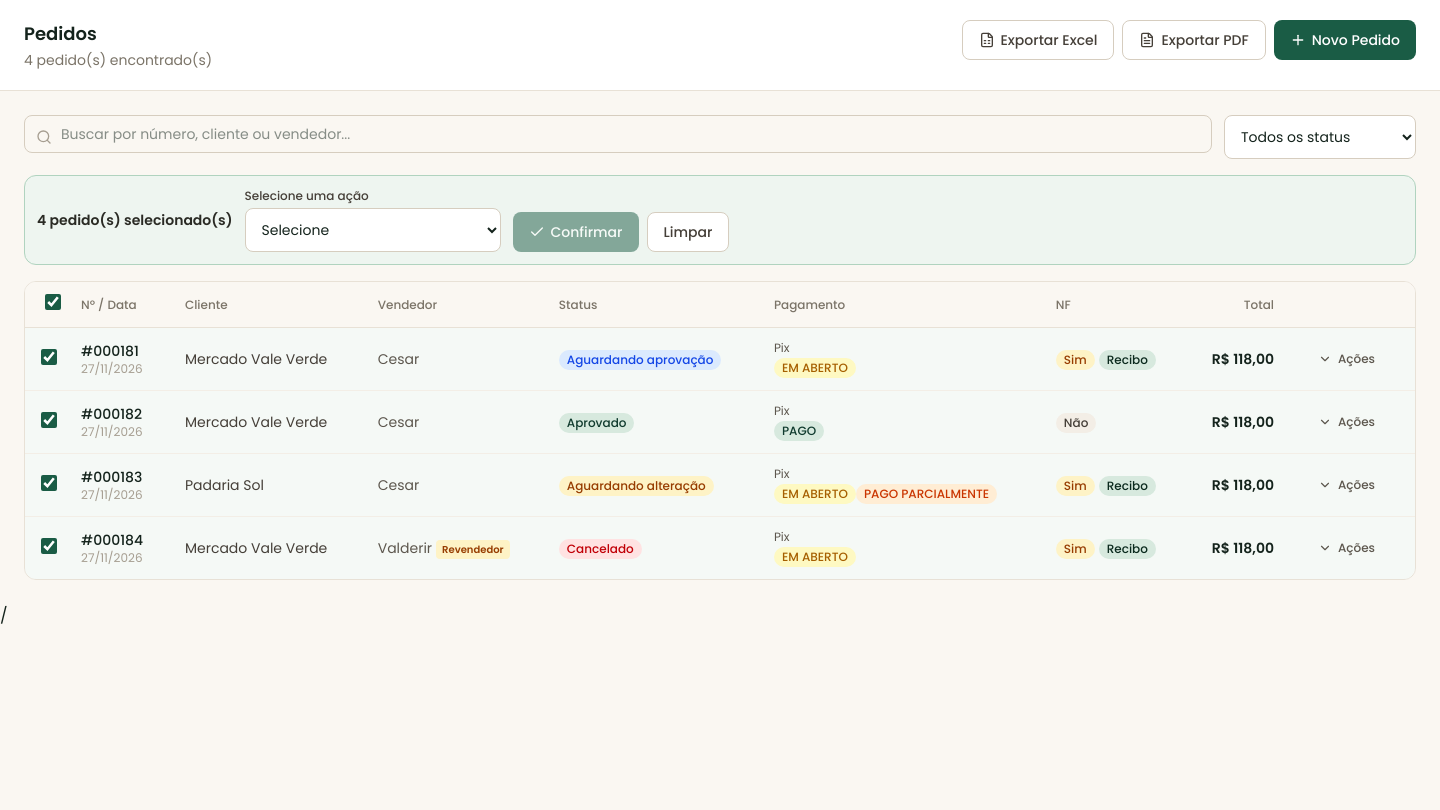
Test: ações em lote › marcar como pago: data, forma, ignorados e erros
Earlier steps of the test are not shown.
Later steps or results of the test are not shown.
Expected: the text "4 pedido(s) selecionado(s)" is shown, [37,210,232,230]
Click the checkbox named "Selecionar todos" at (53, 302), box [45,294,61,310]
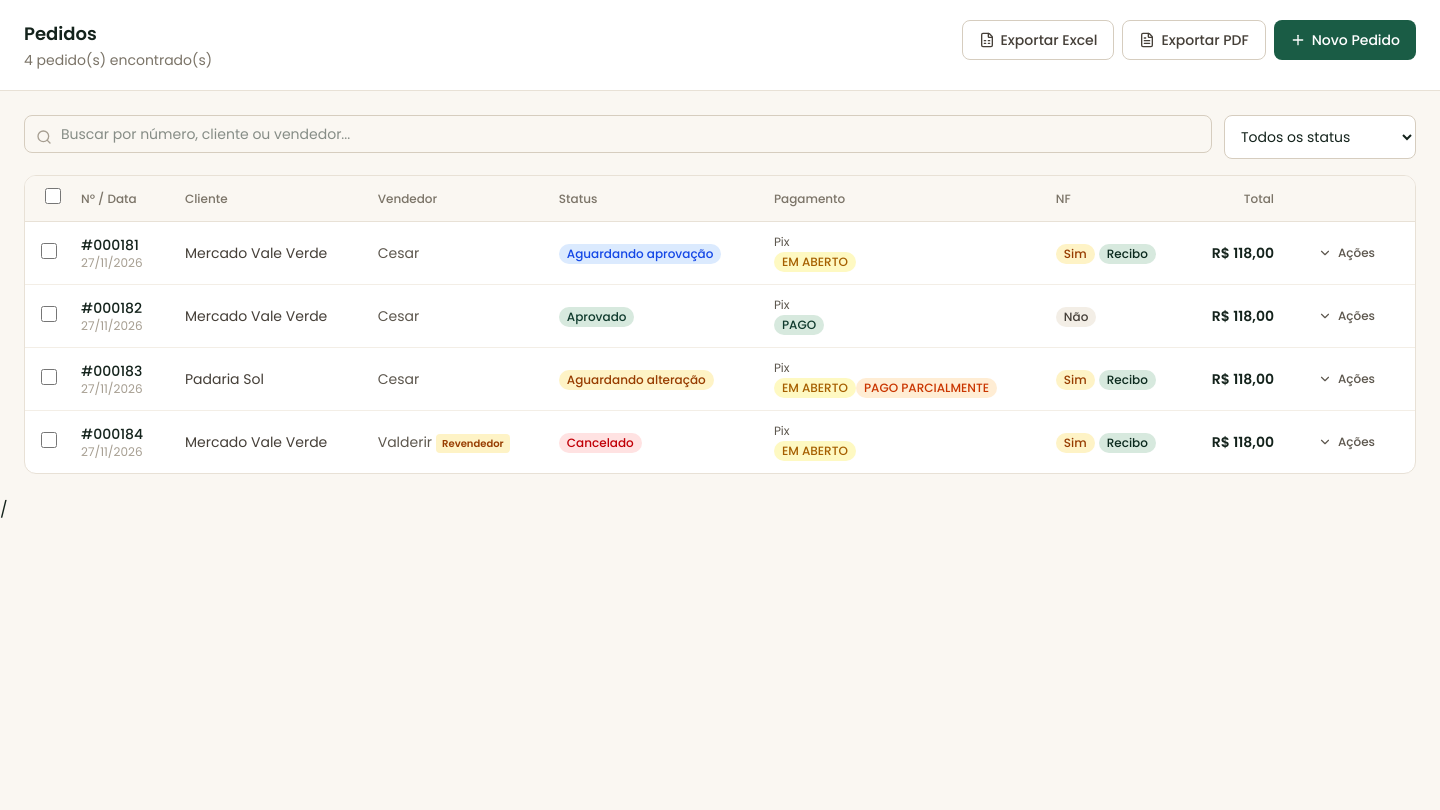
Result: the text "selecionado(s)" is gone
Click the checkbox named "Selecionar todos" at (53, 196), box [45,188,61,204]
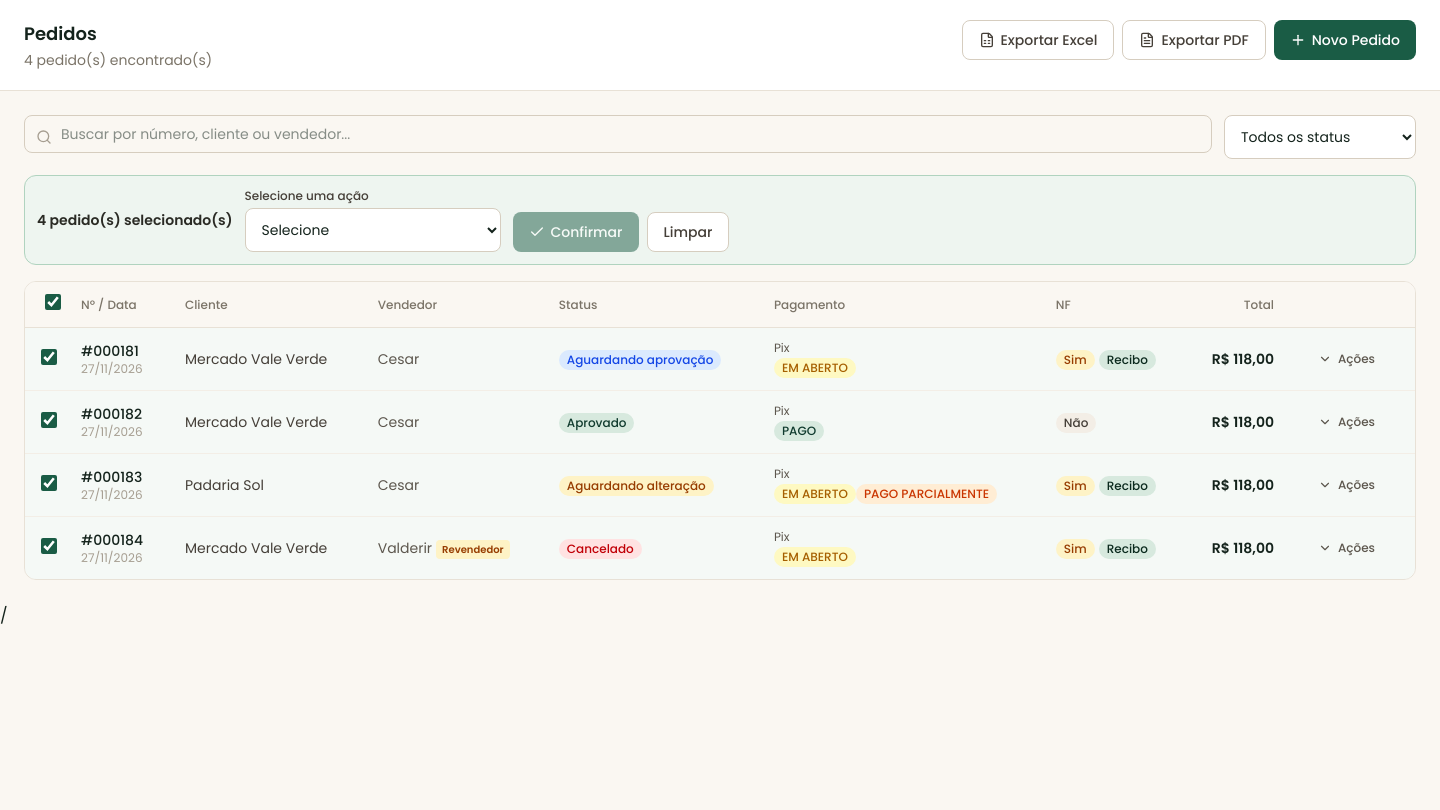
Select "Marcar como pago" in the dropdown below "Selecione uma ação" at (372, 230), box [244,208,500,252]
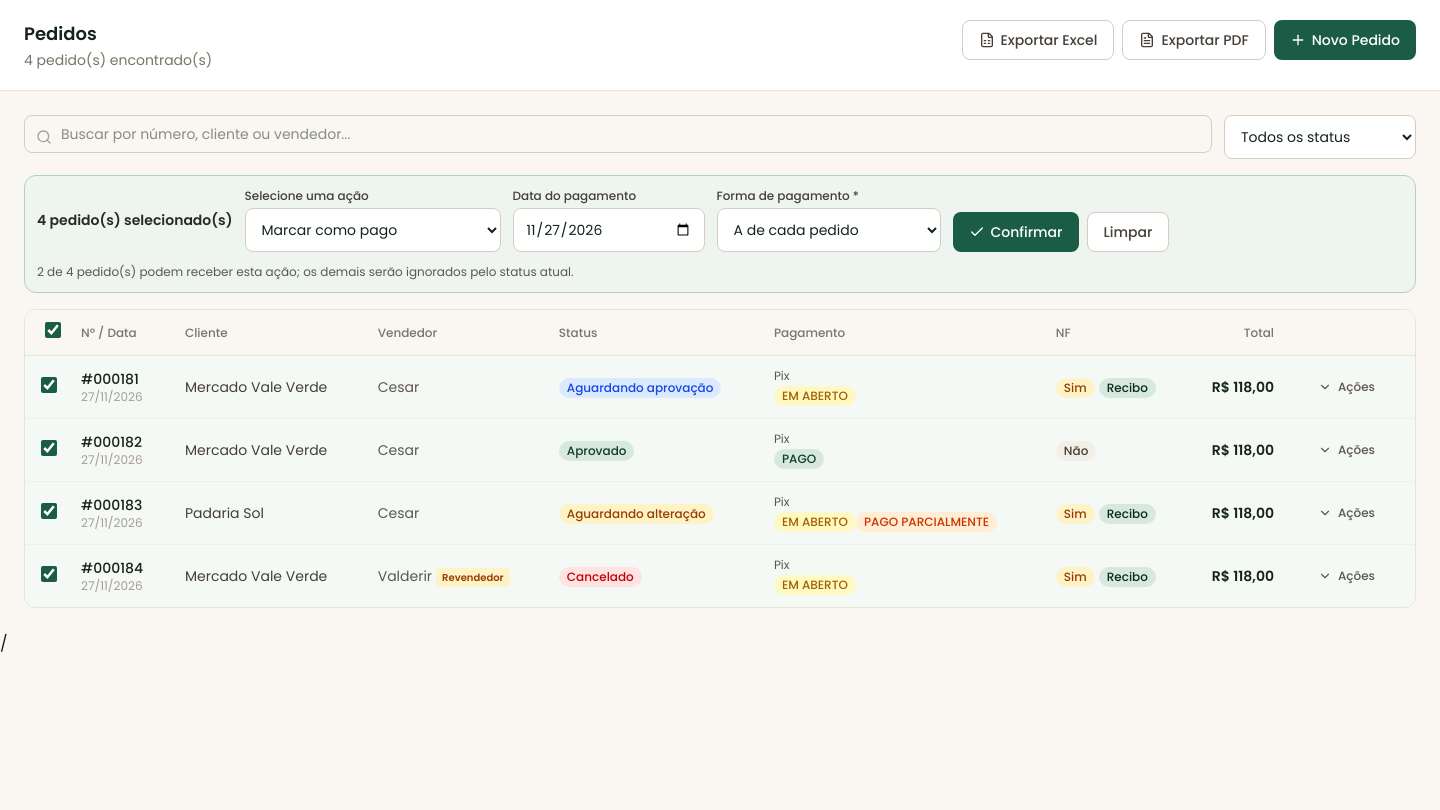
Result: the text "2 de 4 pedido(s) podem receber esta ação" is shown at [37,263,574,280]
Clear the date field at (608, 230), box [512,208,704,252]
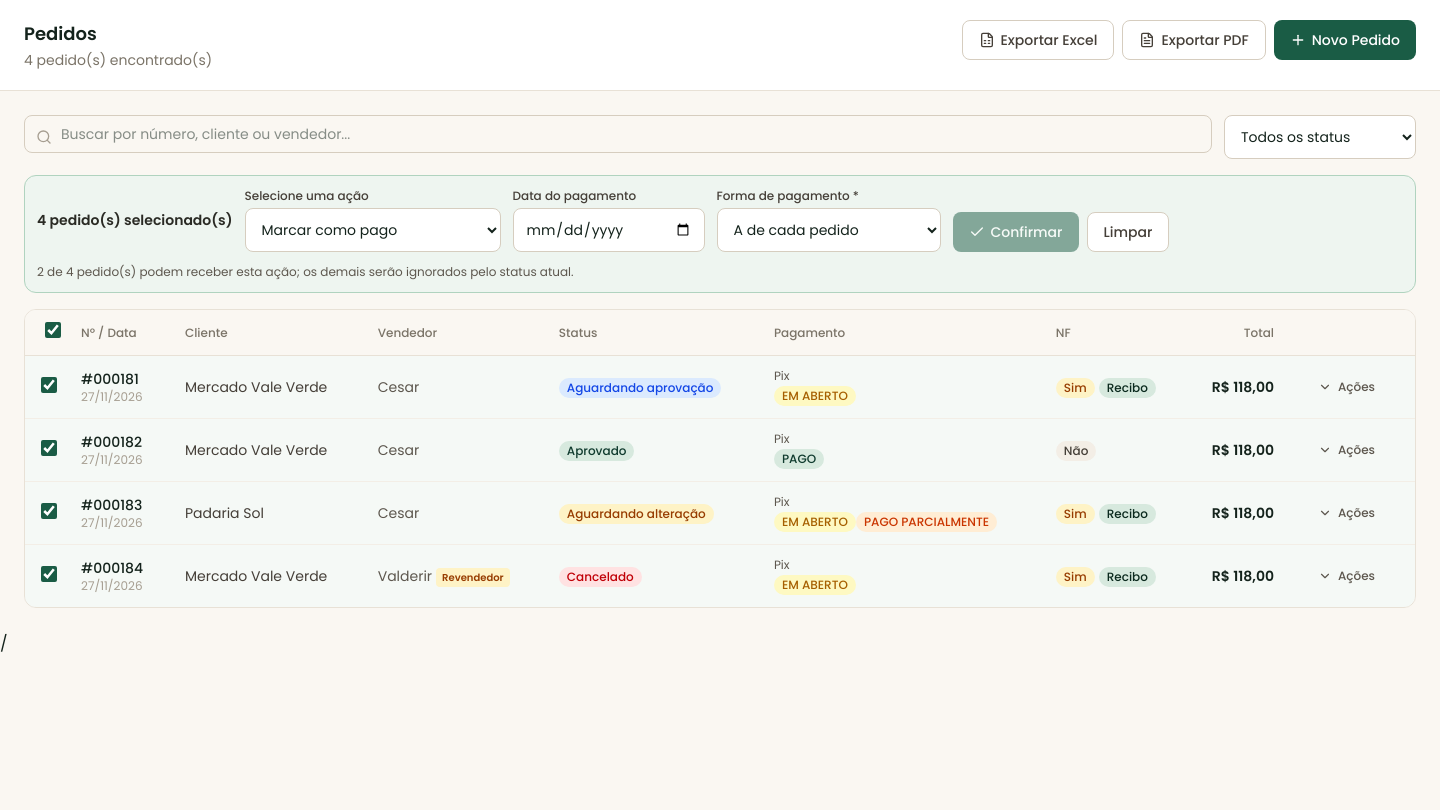
Result: the button "Confirmar" is disabled at [952,212,1078,252]
Type "2026-11-01" into the date field at (608, 230), box [512,208,704,252]
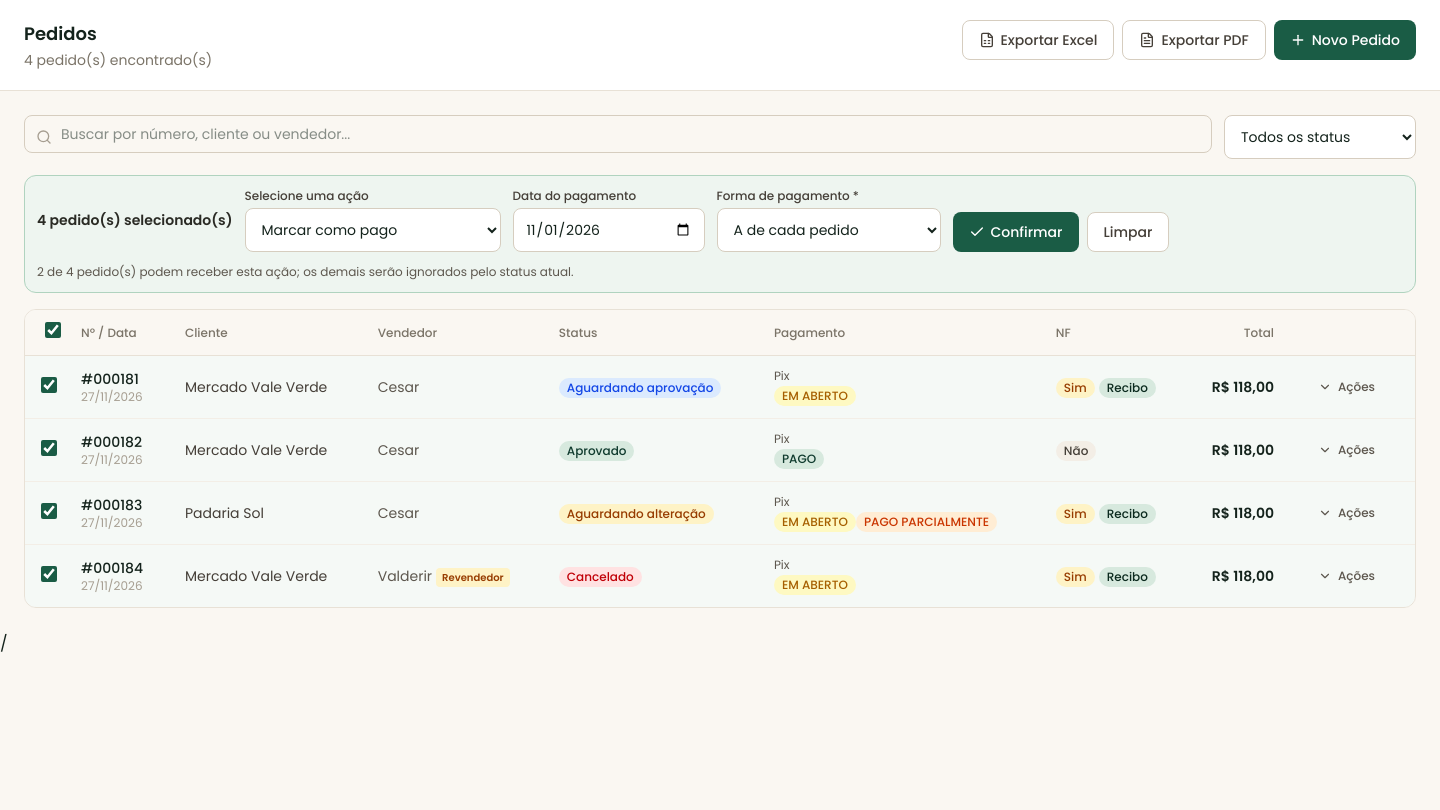
Select "Dinheiro" in the dropdown below "Forma de pagamento *" at (828, 230), box [716,208,940,252]
Click the button "Confirmar" at (1016, 232), box [952,212,1078,252]
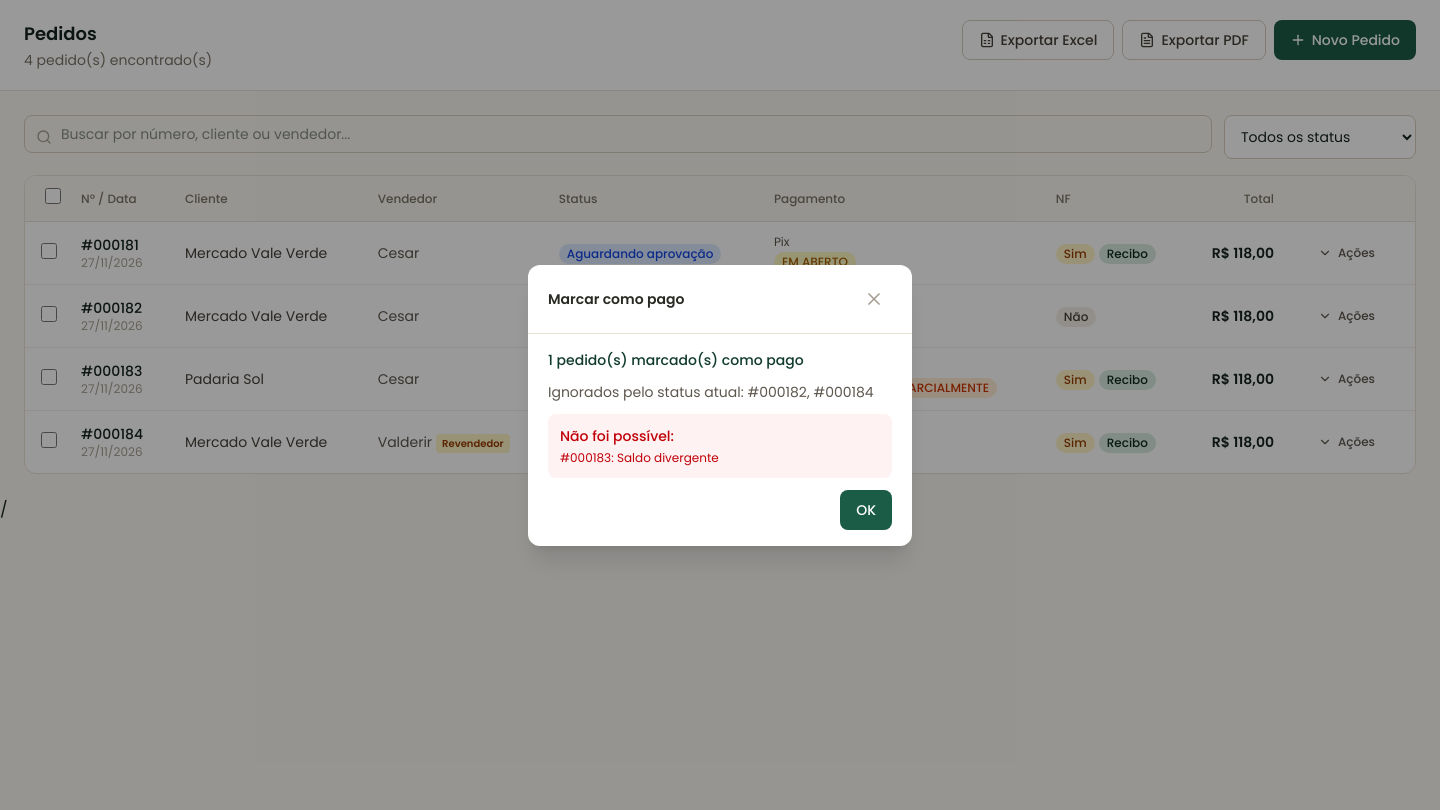
Result: the text "1 pedido(s) marcado(s) como pago" is shown at [548,350,804,370]
Result: the text "Ignorados pelo status atual: #000182, #000184" is shown at [548,382,892,402]
Result: the text "#000183: Saldo divergente" is shown at [560,448,719,466]
